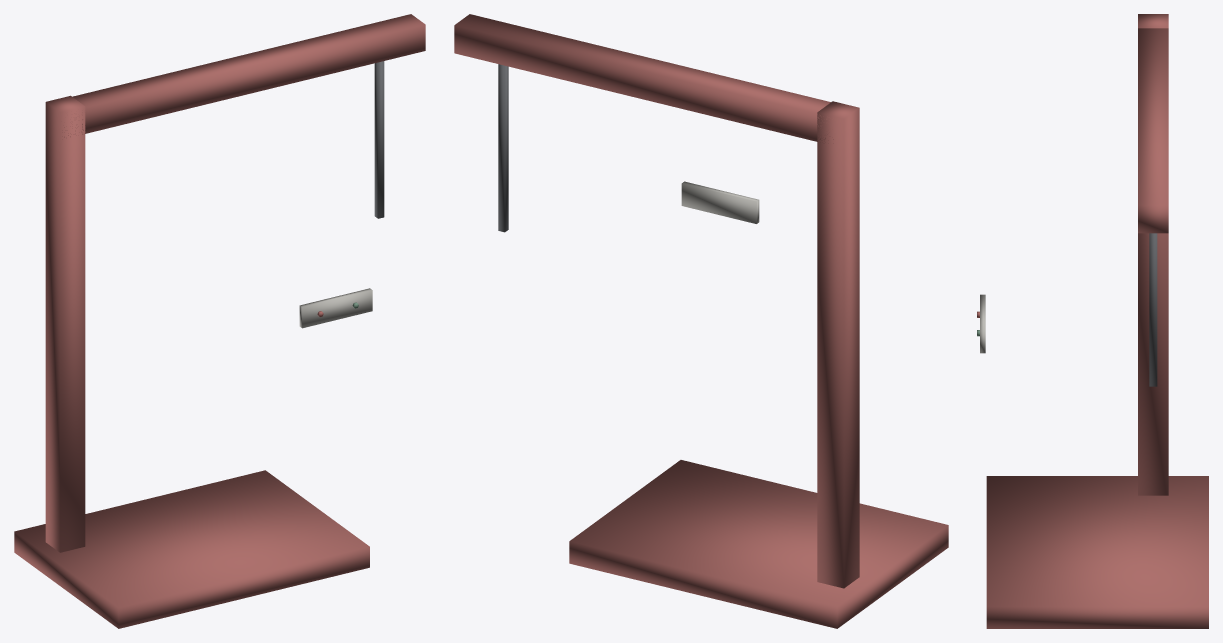
File: engine_hoist.glb
3 views of the same model, side by side, from view 1: azimuth 30°, elevation 25°; view 2: azimuth 150°, elevation 25°; view 3: azimuth 270°, elevation 25° (orthographic). The views are drawn at different scales.
Parts seen in each view (by area): view 1: world; view 2: world; view 3: world.
Part boxes in pixels (x1,y1,x2,y2): world: (14,14,425,628); world: (454,14,948,628); world: (977,14,1208,628).
Size of the model in its own units: 1.5 by 1.75 by 0.751.
